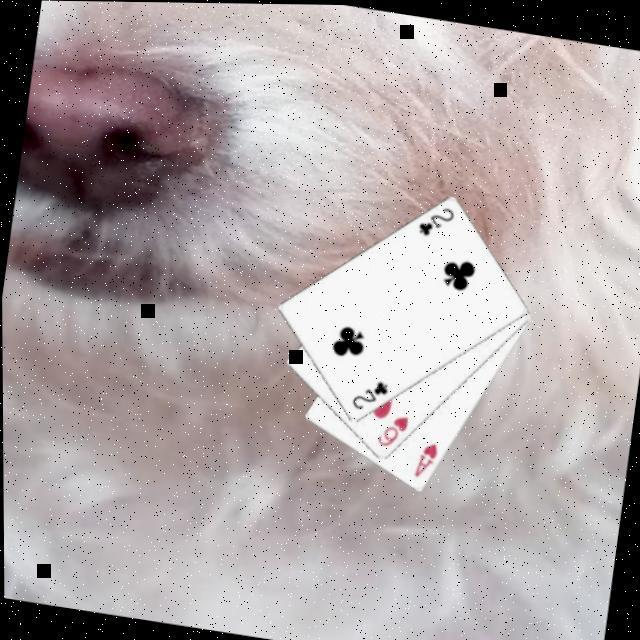2C: (346, 371, 391, 415), (412, 197, 457, 241)
6H: (371, 408, 410, 450)
AH: (409, 436, 441, 481)
